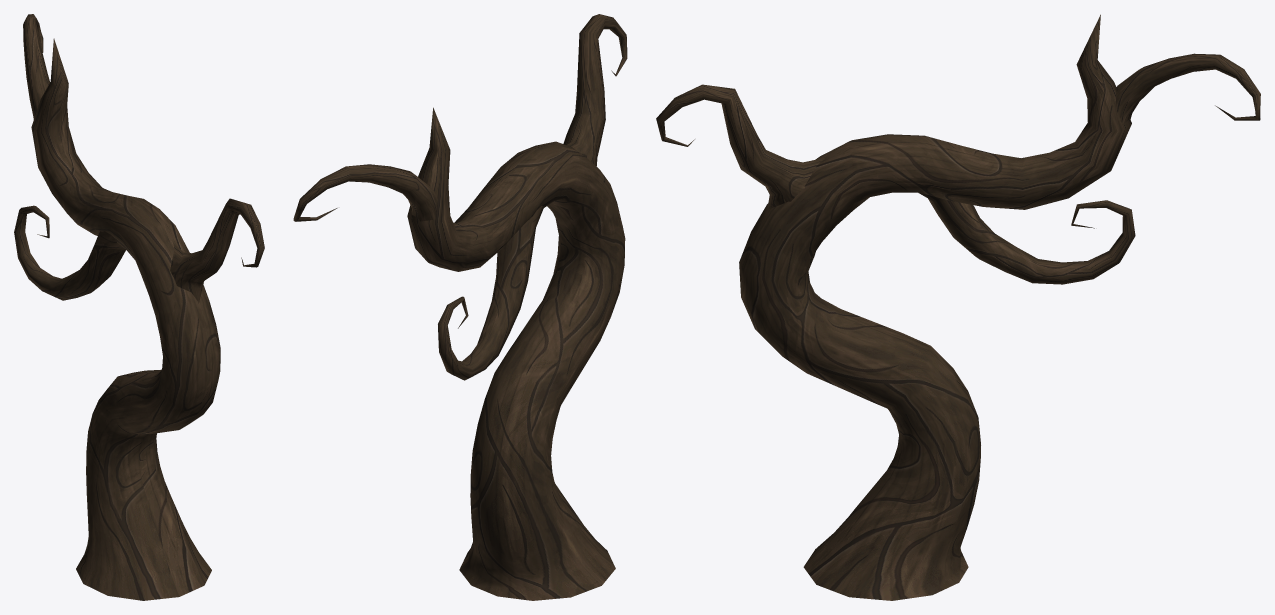
File: rootGreen4.fbx
3 renders of one model, left to right at view 1: azimuth 30°, elevation 25°; view 2: azimuth 150°, elevation 25°; view 3: azimuth 270°, elevation 25°, orthographic. The views are drawn at different scales.
Parts seen in each view (by area): view 1: rootGreen4; view 2: rootGreen4; view 3: rootGreen4.
Boxes of the visible parts, bbox=[...] form: rootGreen4: bbox=[14, 14, 264, 600]; rootGreen4: bbox=[293, 14, 627, 600]; rootGreen4: bbox=[656, 14, 1260, 600].
Size of the model in its own units: 330 by 1257 by 1246.
